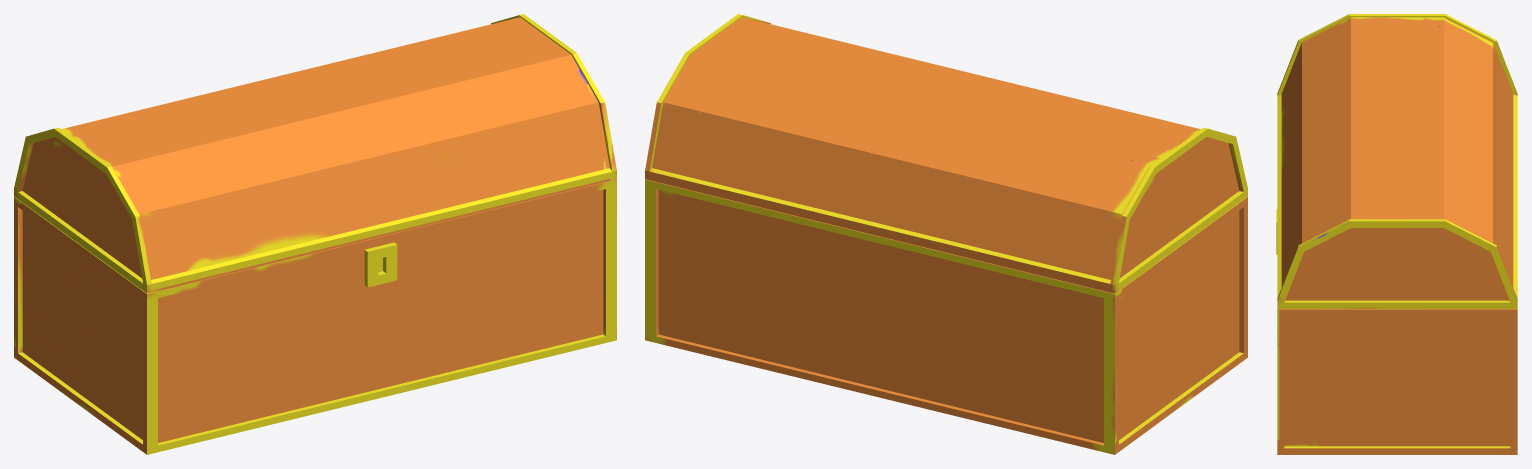
File: chest.fbx
3 views of the same model, side by side, from view 1: azimuth 30°, elevation 25°; view 2: azimuth 150°, elevation 25°; view 3: azimuth 270°, elevation 25° (orthographic). The views are drawn at different scales.
Parts seen in each view (by area): view 1: Cube.020; view 2: Cube.020; view 3: Cube.020.
Part boxes in pixels (<box>): Cube.020: <box>14,14,616,454</box>; Cube.020: <box>645,14,1247,454</box>; Cube.020: <box>1276,14,1517,454</box>.
Size of the model in its own units: 408 by 214 by 201.
Materials: 1 (1 with a texture image).
